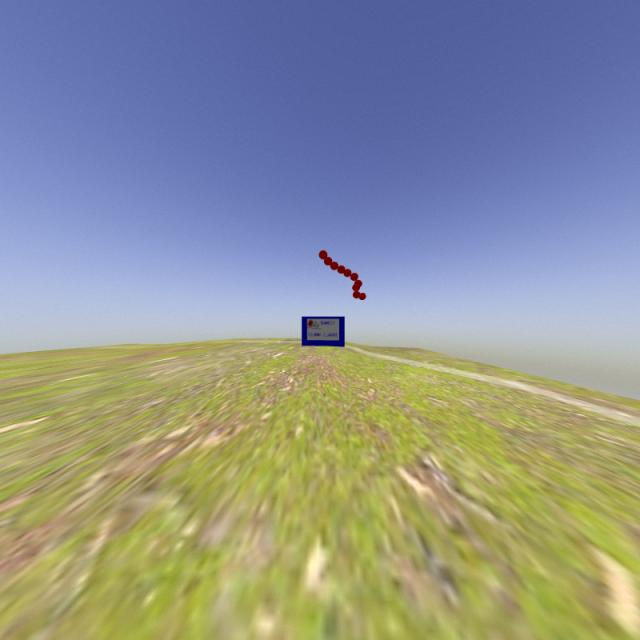clueboard: (300, 315, 346, 348)
